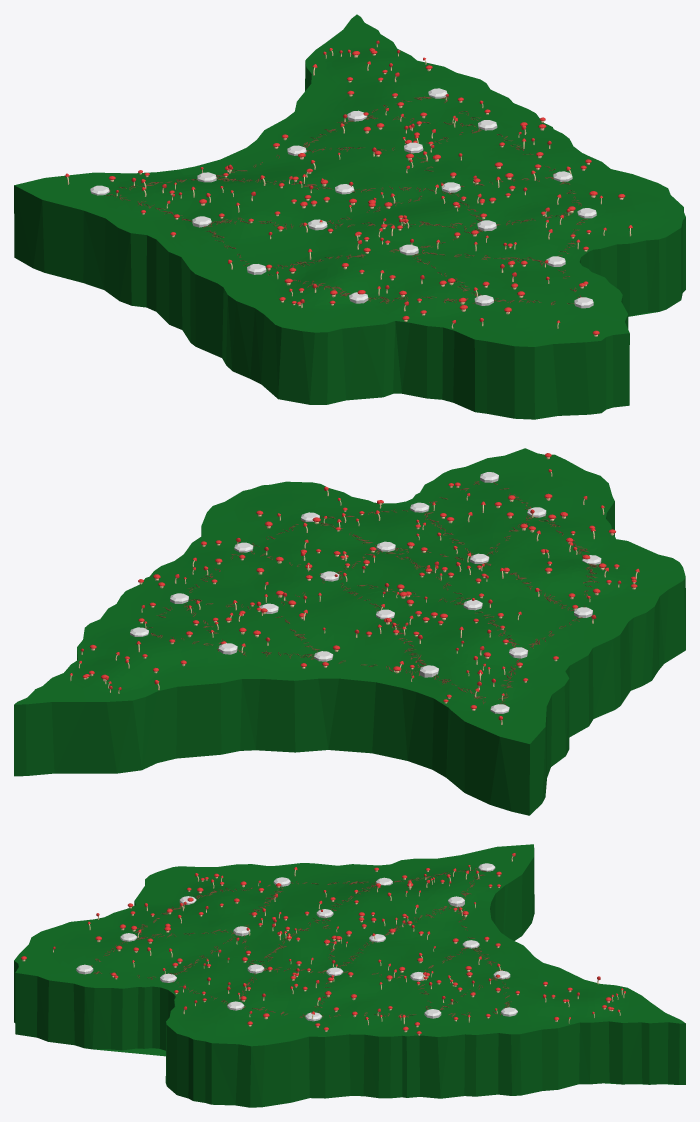
Rendered from ForestLevelPart2.fbx.
3 renders of one model, top to bottom at view 1: azimuth 30°, elevation 25°; view 2: azimuth 150°, elevation 25°; view 3: azimuth 270°, elevation 25°, orthographic. The views are drawn at different scales.
Visible parts, largest first — view 1: Elf_Forest_Part2_Level; view 2: Elf_Forest_Part2_Level; view 3: Elf_Forest_Part2_Level.
Part boxes in pixels (x1=…): Elf_Forest_Part2_Level: x1=14, y1=14, x2=685, y2=419; Elf_Forest_Part2_Level: x1=14, y1=448, x2=685, y2=815; Elf_Forest_Part2_Level: x1=14, y1=844, x2=685, y2=1107.
Bounding box in the file's own units: 1408 × 1978 × 251.
